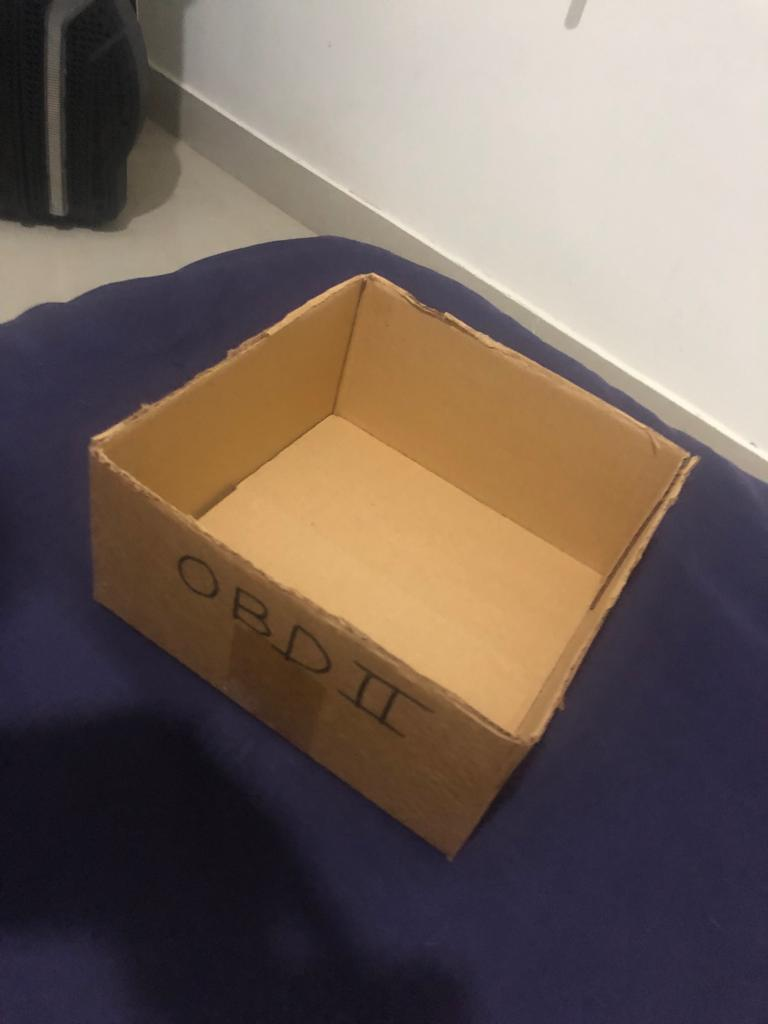CBox: (88, 269, 699, 861)
